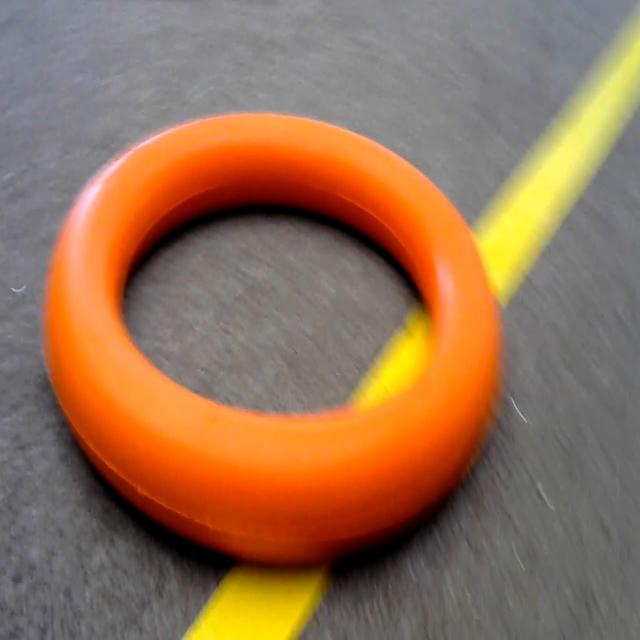note: (44, 79, 519, 590)
